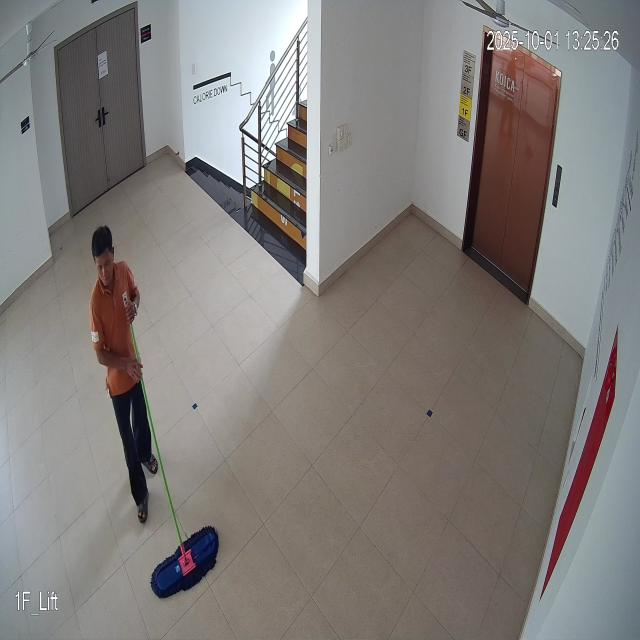face: (86, 214, 118, 302)
